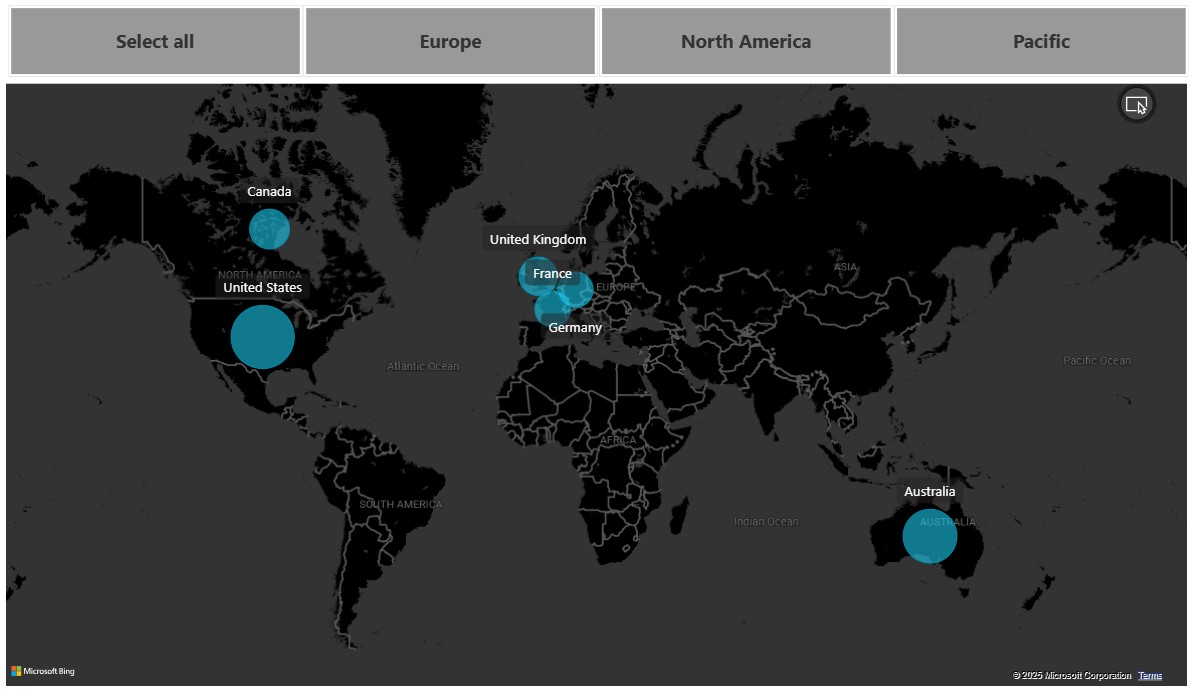

The dashboard page shown, as its layout file describes it:
{"tool":"powerbi","page":{"name":"Maps","canvas":[1280,720],"ordinal":1},"visuals":[{"type":"shape","box":[0,0,45,720],"z":0},{"type":"map","fields":{"Category":["AW_Territories_Lookup.Country"],"Size":["AW_Sales.Total orders"]},"box":[69.7,93.3,1185.5,613.3],"z":1000},{"type":"actionButton","box":[0,477.7,44.8,39.8],"z":1000,"group":"g1"},{"type":"slicer","fields":{"Values":["AW_Territories_Lookup.Continent"]},"box":[51,17.4,1224.1,84.6],"z":2000},{"type":"actionButton","box":[0,537.4,44.8,39.8],"z":2000,"group":"g1"},{"type":"group","id":"g1","title":"nav buttons","box":[0,477.7,44.8,211.5],"z":3000},{"type":"actionButton","box":[0,592.1,44.8,39.8],"z":3000,"group":"g1"},{"type":"actionButton","box":[0,649.4,44.8,39.8],"z":4000,"group":"g1"}]}

Visuals, with their boxes in screenshot pixels (x1, y1, x2, y2), scaled from the page's 1280x720 canvas onto the 1201x692 screenshot:
shape: Rect(0, 0, 42, 691)
map - AW_Territories_Lookup.Country x AW_Sales.Total orders: Rect(65, 90, 1178, 679)
actionButton: Rect(0, 459, 42, 497)
slicer - AW_Territories_Lookup.Continent: Rect(48, 17, 1196, 98)
actionButton: Rect(0, 517, 42, 555)
"nav buttons" group: Rect(0, 459, 42, 662)
actionButton: Rect(0, 569, 42, 607)
actionButton: Rect(0, 624, 42, 662)
